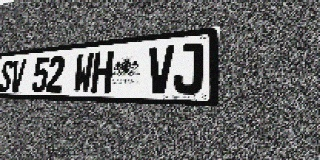2: (46, 55, 66, 93)
5: (32, 57, 50, 92)
H: (91, 51, 114, 93)
J: (173, 42, 204, 94)
S: (0, 60, 14, 92)
V: (147, 45, 175, 94), (9, 59, 26, 92)
W: (73, 52, 94, 93)
